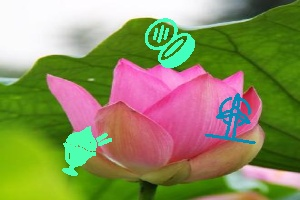化妆盒: (145, 18, 195, 68)
杯子冰淇淋: (63, 127, 110, 177)
火箭模型: (205, 93, 259, 145)
